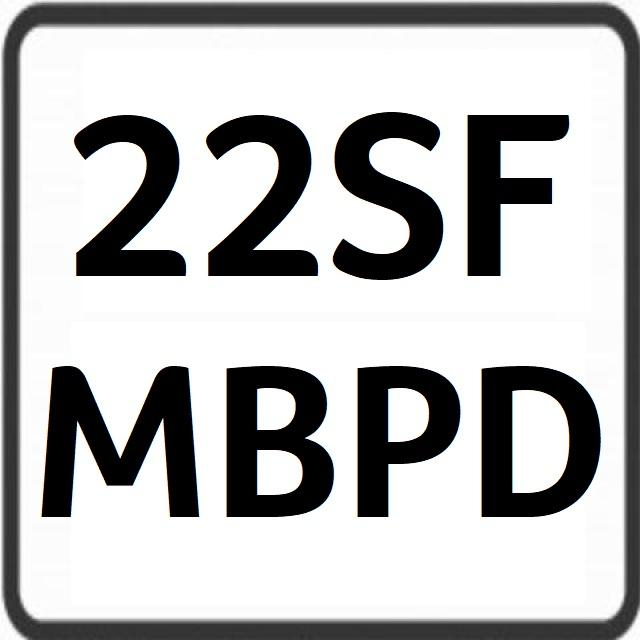2: (67, 92, 192, 292)
B: (225, 351, 339, 529)
D: (476, 350, 608, 536)
F: (464, 89, 574, 286)
M: (42, 340, 207, 528)
P: (350, 355, 465, 536)
S: (336, 88, 446, 276)
